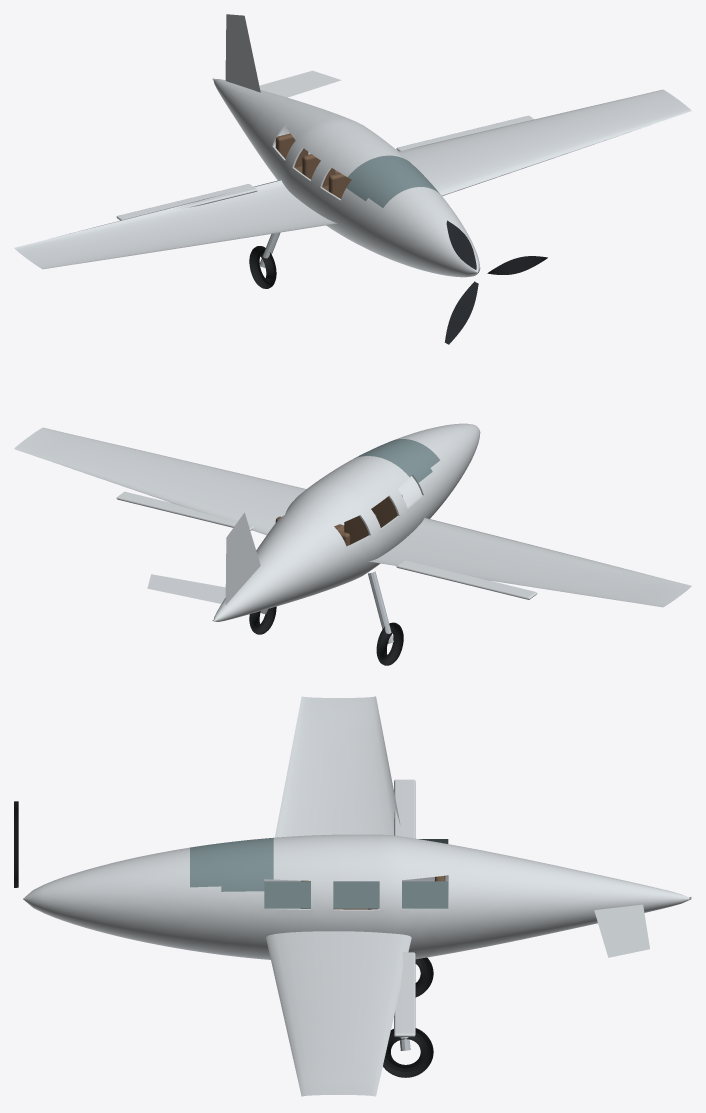
The model's file is aircraft.glb.
3 views of the same model, one above another, from view 1: azimuth 30°, elevation 25°; view 2: azimuth 150°, elevation 25°; view 3: azimuth 270°, elevation 25° (orthographic). The views are drawn at different scales.
Parts seen in each view (by area): view 1: Fuselage, CamberedWing.001, CamberedWing, TailFin, HorizontalStabilizer.001, FlapSurface, TwistedPropellerBlade.002, LandingTyre, FlapSurface.001, TwistedPropellerBlade.001, TwistedPropellerBlade; view 2: Fuselage, CamberedWing, CamberedWing.001, TailFin, FlapSurface, HorizontalStabilizer.001, FlapSurface.001, LandingTyre, MainGearStrut, LandingTyre.001, CabinPassengerBack, CabinPassengerBack.001; view 3: Fuselage, CamberedWing.001, CamberedWing, HorizontalStabilizer.001, FlapSurface.001, CabinWindow.003, CabinWindow.004, CabinWindow.005, LandingTyre.001, FlapSurface.
Part boxes in pixels (x1=…): Fuselage: x1=212, y1=78, x2=480, y2=277; CamberedWing.001: x1=398, y1=89, x2=691, y2=196; CamberedWing: x1=14, y1=179, x2=337, y2=269; TailFin: x1=225, y1=14, x2=260, y2=92; HorizontalStabilizer.001: x1=259, y1=70, x2=341, y2=97; FlapSurface: x1=116, y1=184, x2=257, y2=220; TwistedPropellerBlade.002: x1=444, y1=281, x2=478, y2=344; LandingTyre: x1=249, y1=246, x2=276, y2=288; FlapSurface.001: x1=396, y1=115, x2=534, y2=151; TwistedPropellerBlade.001: x1=446, y1=220, x2=476, y2=269; TwistedPropellerBlade: x1=487, y1=256, x2=547, y2=274; Fuselage: x1=212, y1=423, x2=480, y2=621; CamberedWing: x1=368, y1=517, x2=691, y2=607; CamberedWing.001: x1=14, y1=427, x2=306, y2=535; TailFin: x1=225, y1=512, x2=260, y2=604; FlapSurface: x1=396, y1=560, x2=537, y2=599; HorizontalStabilizer.001: x1=147, y1=574, x2=225, y2=603; FlapSurface.001: x1=116, y1=491, x2=253, y2=530; LandingTyre: x1=376, y1=622, x2=403, y2=665; MainGearStrut: x1=368, y1=571, x2=393, y2=643; LandingTyre.001: x1=249, y1=606, x2=276, y2=634; CabinPassengerBack: x1=371, y1=495, x2=402, y2=527; CabinPassengerBack.001: x1=344, y1=514, x2=376, y2=544; Fuselage: x1=23, y1=834, x2=691, y2=959; CamberedWing.001: x1=266, y1=931, x2=411, y2=1096; CamberedWing: x1=275, y1=696, x2=400, y2=837; HorizontalStabilizer.001: x1=594, y1=904, x2=649, y2=957; FlapSurface.001: x1=394, y1=952, x2=415, y2=1036; CabinWindow.003: x1=264, y1=881, x2=310, y2=908; CabinWindow.004: x1=333, y1=881, x2=379, y2=908; CabinWindow.005: x1=402, y1=881, x2=448, y2=908; LandingTyre.001: x1=383, y1=1028, x2=433, y2=1077; FlapSurface: x1=394, y1=779, x2=415, y2=838.
Size of the model in its own units: 10.2 by 2.95 by 7.3.
